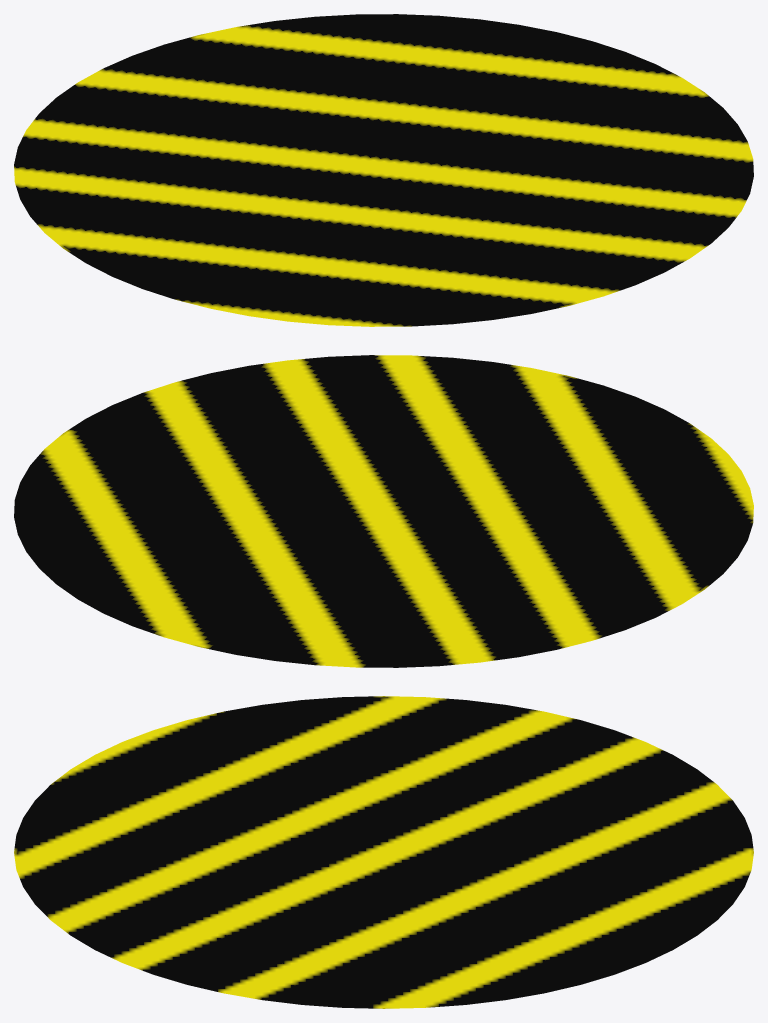
Rendered from リセット.fbx.
3 views of the same model, one above another, from view 1: azimuth 30°, elevation 25°; view 2: azimuth 150°, elevation 25°; view 3: azimuth 270°, elevation 25° (orthographic).
Visible parts, largest first — view 1: pDisc1; view 2: pDisc1; view 3: pDisc1.
Part boxes in pixels (x1,y1,x2,y2): pDisc1: [14, 14, 753, 326]; pDisc1: [14, 355, 753, 667]; pDisc1: [14, 696, 753, 1008].
Bounding box in the file's own units: 14 × 0 × 14.
Materials: 1 (1 with a texture image).
